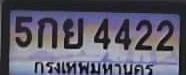2: (156, 19, 172, 50), (135, 18, 151, 49)
4: (114, 18, 130, 49), (93, 17, 109, 48)
5: (14, 15, 31, 46)
A01: (37, 16, 57, 48)
A34: (62, 17, 83, 48)
BKK: (32, 58, 155, 75)
